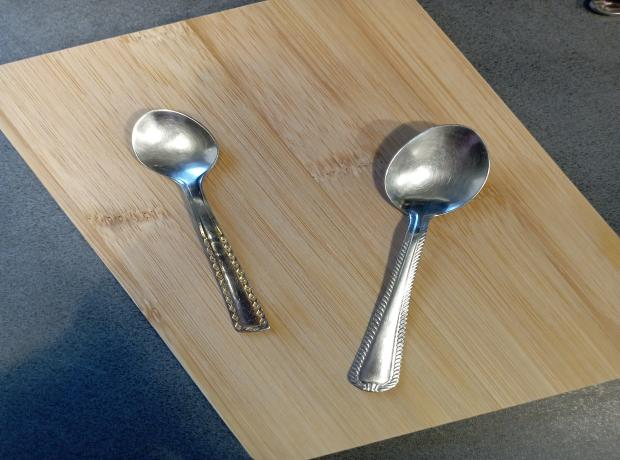metal: (345, 125, 493, 393), (134, 108, 277, 332)
